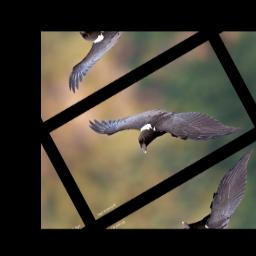Crow: (86, 53, 246, 198)
